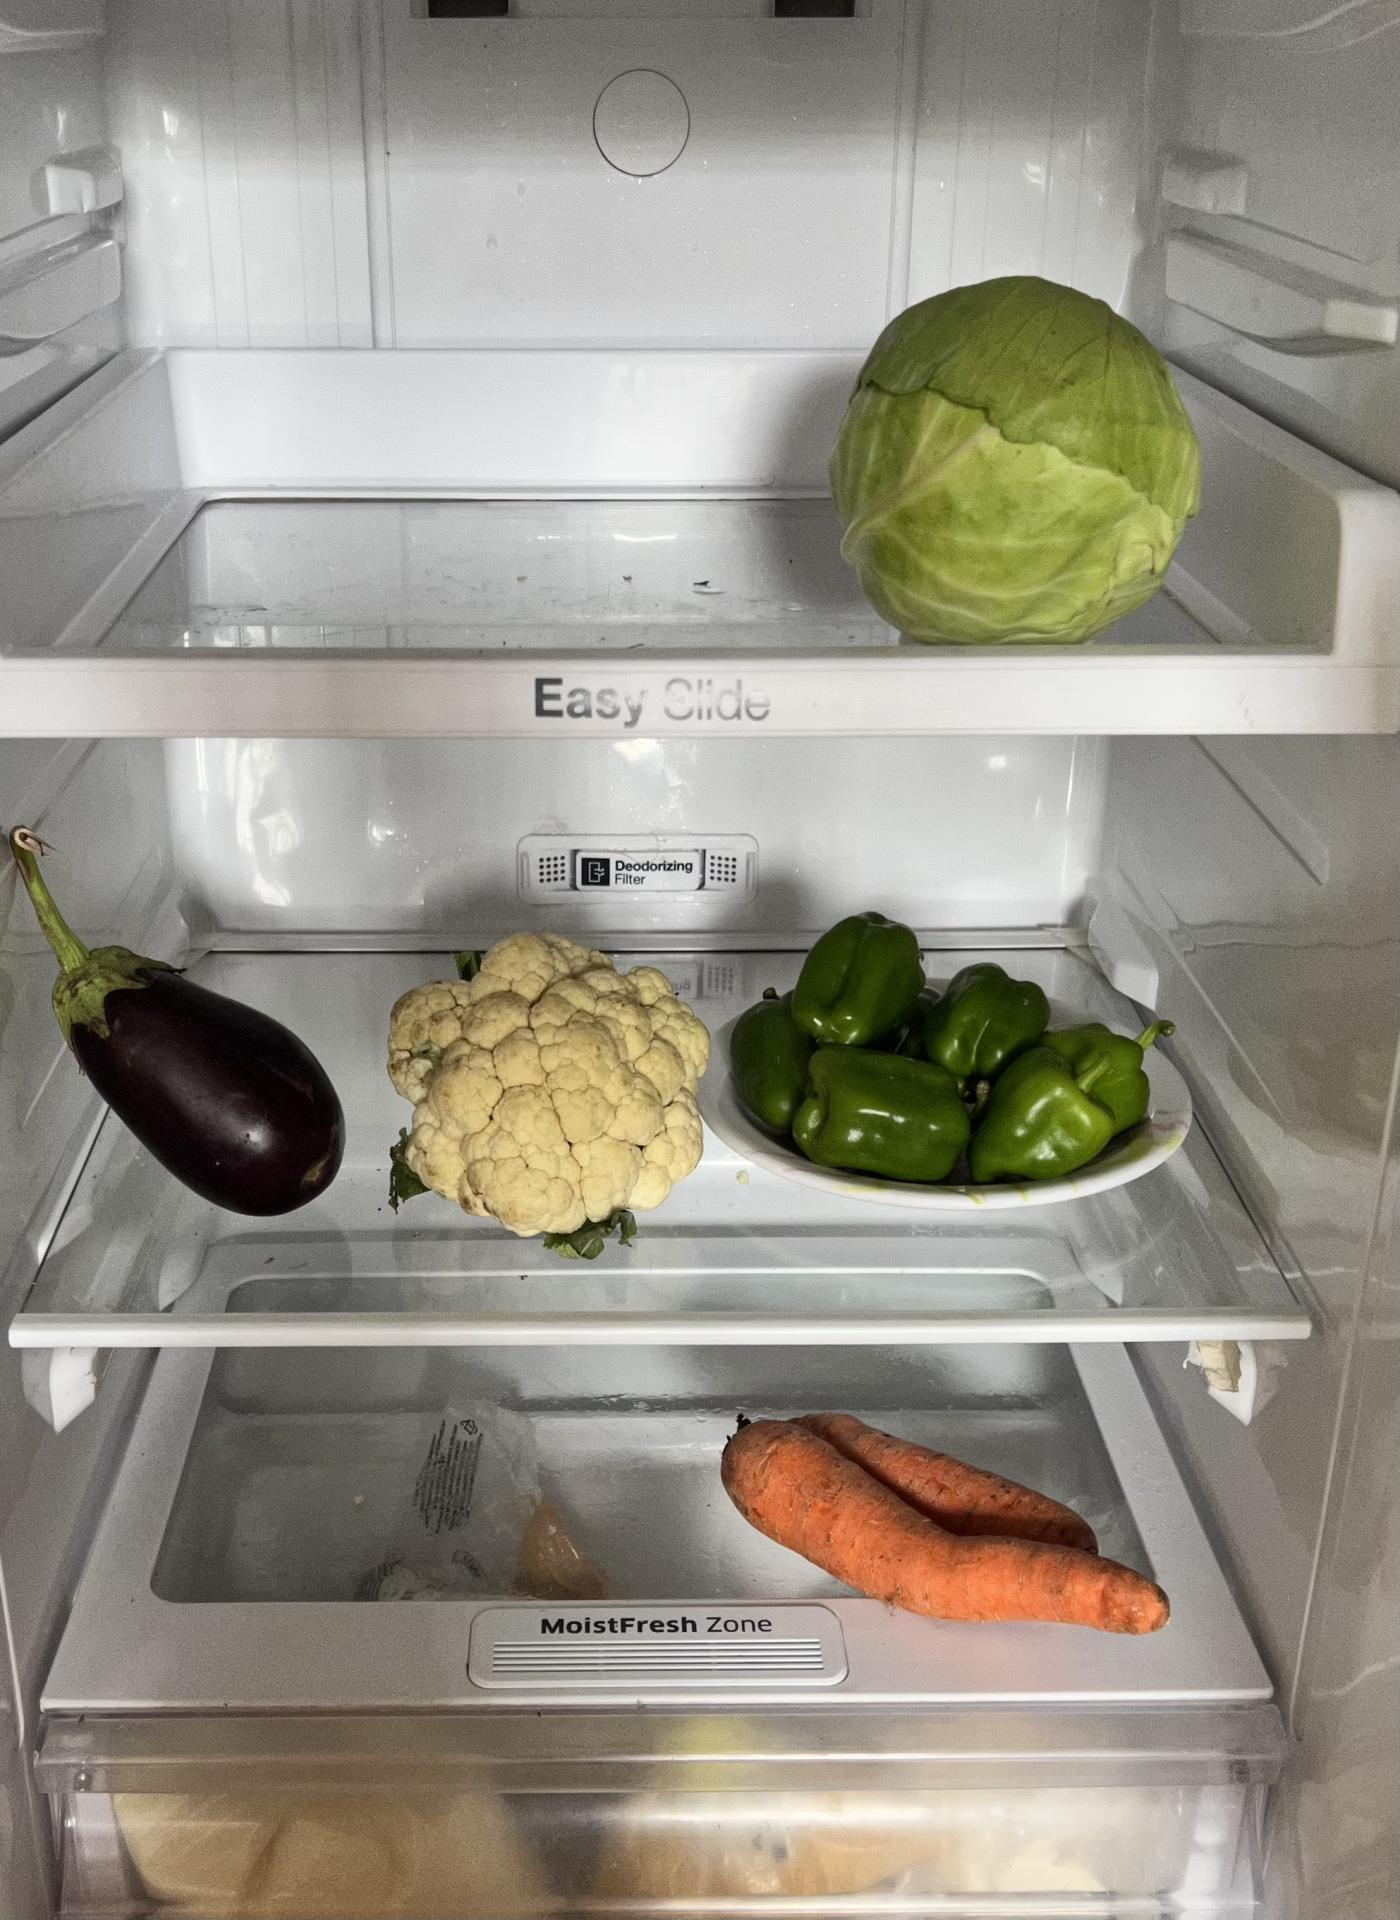cabbage: (833, 274, 1197, 648)
capsicum: (732, 908, 1161, 1190)
carrots: (722, 1416, 1163, 1632)
cauliflower: (400, 935, 707, 1227)
